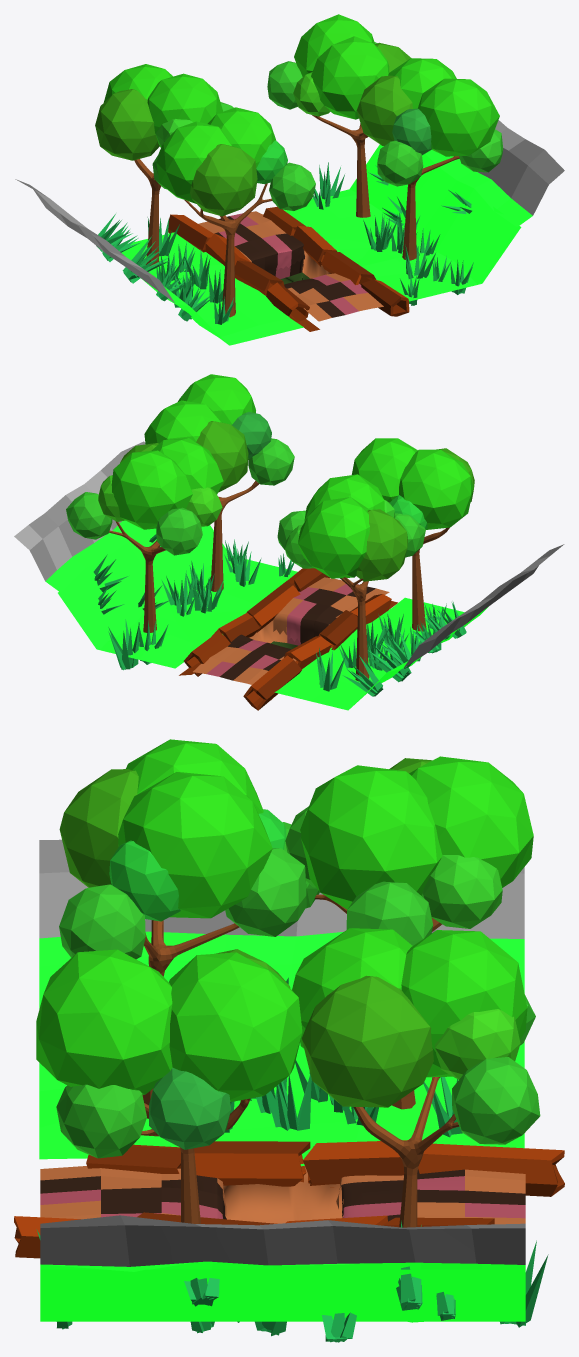
File: maps3.fbx
3 views of the same model, one above another, from view 1: azimuth 30°, elevation 25°; view 2: azimuth 150°, elevation 25°; view 3: azimuth 270°, elevation 25° (orthographic). The views are drawn at different scales.
Parts seen in each view (by area): view 1: environment, road; view 2: environment, road; view 3: environment, road.
Part boxes in pixels (<box>): environment: <box>15,14,564,345</box>; road: <box>198,211,383,321</box>; environment: <box>14,374,564,710</box>; road: <box>193,577,389,684</box>; environment: <box>14,739,564,1342</box>; road: <box>40,1166,525,1224</box>.
Size of the model in its own units: 3775 by 1885 by 2271.
